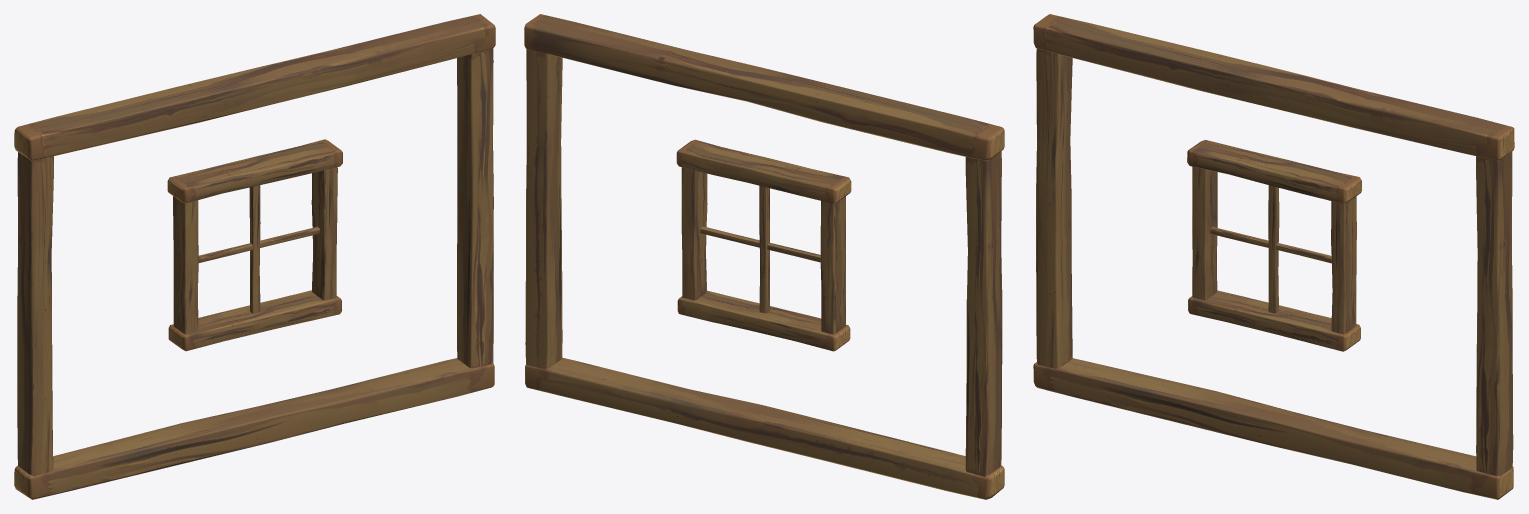
The model's file is SM_MOD_wall_window_frame_town.fbx.
3 views of the same model, side by side, from view 1: azimuth 30°, elevation 25°; view 2: azimuth 150°, elevation 25°; view 3: azimuth 330°, elevation 25° (orthographic).
Visible parts, largest first — view 1: SM_MOD_wall_window_frame_town_LOD0; view 2: SM_MOD_wall_window_frame_town_LOD0; view 3: SM_MOD_wall_window_frame_town_LOD0.
Boxes of the visible parts, box(x1,y1,x2,y2) form: SM_MOD_wall_window_frame_town_LOD0: box(14, 14, 495, 499); SM_MOD_wall_window_frame_town_LOD0: box(524, 14, 1004, 499); SM_MOD_wall_window_frame_town_LOD0: box(1033, 14, 1514, 499).
Size of what is drawn, in the model's own units: 403 by 300 by 25.73.
